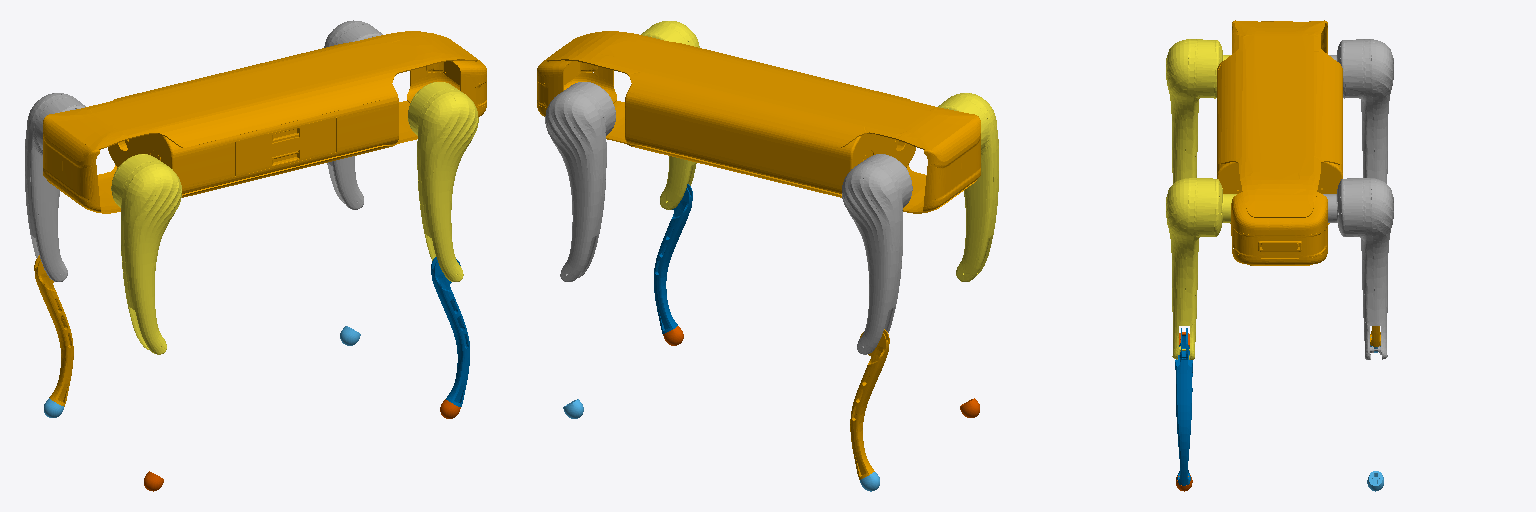
--- Render facts (derived) ---
Views: 3 orthographic renders of the robot side by side, from view 1: azimuth 30°, elevation 25°; view 2: azimuth 150°, elevation 25°; view 3: azimuth 270°, elevation 25°.
Robot: RobotDog — 18 links, 17 joints (12 revolute, 5 fixed); root link base; default pose: every joint at zero.
Links seen in each view (by area): view 1: base, RR_thigh, FR_thigh, RL_thigh, FL_thigh, FR_calf, RL_calf; view 2: base, FL_thigh, RL_thigh, RR_thigh, FR_thigh, RL_calf, FR_calf; view 3: base, FL_thigh, FR_thigh, RR_thigh, RL_thigh, FR_calf.
Boxes of the visible links, x1=… form: base: x1=43, y1=31, x2=486, y2=213; RR_thigh: x1=111, y1=154, x2=181, y2=354; FR_thigh: x1=408, y1=82, x2=478, y2=281; RL_thigh: x1=25, y1=93, x2=85, y2=281; FL_thigh: x1=324, y1=20, x2=382, y2=209; FR_calf: x1=431, y1=257, x2=469, y2=406; RL_calf: x1=34, y1=255, x2=73, y2=406; base: x1=537, y1=31, x2=980, y2=213; FL_thigh: x1=545, y1=82, x2=615, y2=281; RL_thigh: x1=842, y1=154, x2=912, y2=354; RR_thigh: x1=938, y1=93, x2=998, y2=281; FR_thigh: x1=641, y1=21, x2=699, y2=209; RL_calf: x1=850, y1=329, x2=889, y2=479; FR_calf: x1=654, y1=184, x2=692, y2=333; base: x1=1217, y1=20, x2=1342, y2=265; FL_thigh: x1=1323, y1=178, x2=1393, y2=359; FR_thigh: x1=1166, y1=178, x2=1236, y2=359; RR_thigh: x1=1166, y1=39, x2=1230, y2=183; RL_thigh: x1=1329, y1=39, x2=1393, y2=183; FR_calf: x1=1175, y1=328, x2=1192, y2=485.
Size in the robot's own frame: 1.07 by 0.5378 by 0.8267 metres.
11 mesh visuals loaded from 14 distinct referenced files (10 binary STL); not drawn: 6 (reference not matched to a file when rendering).

robot.urdf — RobotDog:
<?xml version="1.0" ?>
<!-- =================================================================================== -->
<!-- |    This document was autogenerated by xacro from [local-path]/Bridge_hub/leg_db_ws/src/legged_debugger/legged_examples/legged_base/legged_base_description/urdf/robot_sim.xacro | -->
<!-- |    EDITING THIS FILE BY HAND IS NOT RECOMMENDED                                 | -->
<!-- =================================================================================== -->
<robot name="RobotDog">
  <!-- ros_control plugin -->
  <gazebo>
    <plugin filename="liblegged_hw_sim.so" name="gazebo_ros_control">
      <robotNamespace>/</robotNamespace>
      <robotParam>legged_robot_description</robotParam>
      <robotSimType>legged_gazebo/LeggedHWSim</robotSimType>
    </plugin>
  </gazebo>
  <gazebo>
    <plugin filename="libgazebo_ros_p3d.so" name="p3d_base_controller">
      <alwaysOn>true</alwaysOn>
      <updateRate>500.0</updateRate>
      <bodyName>base</bodyName>
      <topicName>ground_truth/state</topicName>
      <gaussianNoise>0</gaussianNoise>
      <frameName>world</frameName>
      <xyzOffsets>0 0 0</xyzOffsets>
      <rpyOffsets>0 0 0</rpyOffsets>
    </plugin>
  </gazebo>
  <link name="base">
    <visual>
      <origin xyz="0 0 0" rpy="0 0 0" />
      <geometry>
        <mesh filename="package://legged_fire_description/meshes/Base.STL" />
      </geometry>
      <!-- <material name="">
        <color rgba="0.79216 0.81961 0.93333 1" />
      </material> -->
      <material name="grey"/>
    </visual>
    <!-- <collision>
      <origin xyz="0.025 0 0" rpy="0 0 0" />
      <geometry>
        <mesh filename="[local-path]/amp_ppo_ws/src/legged_gym_amp_ppo/src/AMP_for_hardware/resources/robots/LT/meshes/Base.STL" />
        <box size="1.075 0.10 0.18"/>
      </geometry>
    </collision> -->
    <collision>
      <origin xyz="0.0 0 0" rpy="0 0 0" />
      <geometry>
        <box size="0.55 0.28 0.18"/>
      </geometry>
    </collision>
    <collision>
      <origin xyz="0.42 0 0" rpy="0 0 0" />
      <geometry>
        <box size="0.25 0.12 0.18"/>
      </geometry>
    </collision>
    <collision>
      <origin xyz="-0.40 0 0" rpy="0 0 0" />
      <geometry>
        <box size="0.20 0.12 0.18"/>
      </geometry>
    </collision>
    <inertial>
      <origin xyz="0.0 0.0 0.0" rpy="0 0 0" />
      <mass value="12.40" />
      <inertia ixx="0.1632" ixy="0.0" ixz="0.0" iyy="0.342653" iyz="0.0" izz="0.39432" />
    </inertial>
  </link>
  <!-- Imu is fixed to the base link -->
  <joint name="base_imu_joint" type="fixed">
    <origin rpy="0. 0. 0." xyz="0. 0. 0."/>
    <parent link="base"/>
    <child link="base_imu"/>
  </joint>
  <gazebo reference="base_imu_joint">
    <disableFixedJointLumping>true</disableFixedJointLumping>
  </gazebo>
  <!-- Imu link -->
  <link name="base_imu">
    <inertial>
      <mass value="0.01"/>
      <origin rpy="0 0 0" xyz="0 0 0"/>
      <inertia ixx="0.000001" ixy="0" ixz="0" iyy="0.000001" iyz="0" izz="0.000001"/>
    </inertial>
    <visual>
      <origin rpy="0 0 0" xyz="0 0 0"/>
      <geometry>
        <box size="0.015 0.015 0.004"/>
      </geometry>
    </visual>
    <material name="orange">
      <color rgba="255 108 10 255"/>
    </material>
  </link>
 
  <joint name="FR_hip_joint" type="revolute">
    <origin xyz="0.2655 -0.076 0" rpy="0 0 0" />
    <parent link="base" />
    <child link="FR_hip" />
    <axis xyz="1 0 0" />
    <dynamics damping="0.0" bfriction="0.2"/>
    <limit effort="80.0" lower="-1" upper="1" velocity="30.1"/>
  </joint>
  <link name="FR_hip">
    <visual>
      <origin xyz="0 0 0" rpy="0 0 0" />
      <geometry>
        <mesh filename="package://legged_fire_description/meshes/FR_Hip.STL" />
      </geometry>
      <!-- <material name="">
        <color rgba="0.79216 0.81961 0.93333 1" />
      </material> -->
      <material name="blue"/>
    </visual>
    <!-- <collision>
      <origin rpy="1.5707963267948966 0 0" xyz="0 0 0"/>
      <geometry>
        <cylinder length="0.0587" radius="0.077"/>
      </geometry>
    </collision> -->
    <inertial>
      <origin xyz="0.12 -0.005 0.0" rpy="0 0 0" />
      <mass value="2.640" />
      <inertia ixx="0.0049" ixy="0.0" ixz="0.0" iyy="0.0065" iyz="0.0" izz="0.0049" />
    </inertial>
  </link>
  <joint name="FR_thigh_joint" type="revolute">
    <origin xyz="0.121 -0.013 0" rpy="0 0 0" />
    <parent link="FR_hip" />
    <child link="FR_thigh" />
    <axis xyz="0 1 0" />
    <dynamics damping="0.0" bfriction="0.2"/>
    <limit effort="80.0" lower="-3" upper="4.501" velocity="30.1"/>
  </joint>
  <link name="FR_thigh">
    <visual>
      <origin xyz="0 0 0" rpy="0 0 0" />
      <geometry>
        <mesh filename="package://legged_fire_description/meshes/HR_Thigh.STL" />
      </geometry>
      <!-- <material name="">
        <color rgba="0.79216 0.81961 0.93333 1" />
      </material> -->
      <material name="green"/>
    </visual>
    <collision>
      <origin xyz="0 -0.11 0" rpy="1.57 0 0" />
      <geometry>
        <cylinder length="0.12" radius="0.07"/>
      </geometry>
    </collision>
    <collision>
      <origin xyz="-0.035 -0.14 -0.16" rpy="0 0 0" />
      <geometry>
        <box size="0.055 0.06 0.20"/>
      </geometry>
    </collision>
    <collision>
      <origin xyz="-0.017 -0.14 -0.325" rpy="0 -0.40 0" />
      <geometry>
        <box size="0.030 0.06 0.13"/>
      </geometry>
    </collision>
    <!-- <collision>
      <origin rpy="1.5707963267948966 0 0" xyz="0 -0.0 0"/>
      <geometry>
        <cylinder length="0.0587" radius="0.077"/>
      </geometry>
    </collision> -->
    <inertial>
      <origin xyz="-0.0 -0.11 -0.16" rpy="0 0 0" />
      <mass value="4.170" />
      <inertia ixx="0.071" ixy="0.0" ixz="0.0" iyy="0.077" iyz="0.0" izz="0.0081" />
    </inertial>
  </link>
  <joint name="FR_calf_joint" type="revolute">
    <origin xyz="0.0 -0.11514 -0.36702" rpy="0 0 0" />
    <parent link="FR_thigh" />
    <child link="FR_calf" />
    <axis xyz="0 1 0" />
    <dynamics damping="0.0" bfriction="0.2"/>
    <limit effort="80.0" lower="-2.818" upper="0" velocity="20.06"/>
  </joint>
  <link name="FR_calf">
    <visual>
      <origin xyz="0 0 0" rpy="0 0 0" />
      <geometry>
        <mesh filename="package://legged_fire_description/meshes/FR_Knee.STL" />
      </geometry>
      <!-- <material name="">
        <color rgba="0.79216 0.81961 0.93333 1" />
      </material> -->
      <material name="brown"/>
    </visual>
    <!-- <collision>
      <origin xyz="0 0 0" rpy="0 0 0" />
      <geometry>
        <mesh filename="[local-path]/amp_ppo_ws/src/legged_gym_amp_ppo/src/AMP_for_hardware/resources/robots/LT/meshes/FR_Knee.STL" />
      </geometry>
    </collision> -->
    <!-- <collision>
      <origin xyz="-0.01 -0.02 -0.07" rpy="0 -0.40 0" />
      <geometry>
        <box size="0.02 0.04 0.18"/>
      </geometry>
    </collision> -->
    <collision>
      <origin xyz="0.03 -0.02 -0.23" rpy="0 0 0" />
      <geometry>
        <box size="0.02 0.04 0.10"/>
      </geometry>
    </collision>
    <inertial>
      <origin xyz="0.0 -0.0225 -0.16" rpy="0 0 0" />
      <mass value="0.715" />
      <inertia ixx="0.0062" ixy="0.0" ixz="0.0" iyy="0.0062" iyz="0.0" izz="0.000133" />
    </inertial>
  </link>
  <joint name="FR_foot_fixed" type="fixed" dont_collapse="true">
    <origin xyz="0.0051604 -0.021519 -0.33117" rpy="0 0 0" />
    <parent link="FR_calf" />
    <child link="FR_FOOT" />
    <axis xyz="0 0 0" />
  </joint>
  <gazebo reference="FR_foot_fixed">
    <disableFixedJointLumping>true</disableFixedJointLumping>
  </gazebo>
  <link name="FR_FOOT">
    <visual>
      <origin xyz="0 0 0" rpy="0 0.62 0" />
      <geometry>
        <mesh filename="package://legged_fire_description/meshes/FR_Ankle.STL" />
      </geometry>
      <!-- <material name="">
        <color rgba="0 0 0 1" />
      </material> -->
      <material name="black"/>
    </visual>
    <collision>
      <origin xyz="-0.010 0 -0.017" rpy="0 0 0" />
      <geometry>
        <sphere radius="0.022"/>
      </geometry>
    </collision>
    <inertial>
      <origin xyz="-0.012 0.0 -0.0175" rpy="0 0.62 0" />
      <mass value="0.05" />
      <inertia ixx="0.000008" ixy="0.0" ixz="0.0" iyy="0.000008" iyz="0.0" izz="0.000008" />
    </inertial>
  </link>
  <joint name="FL_hip_joint" type="revolute">
    <origin xyz="0.2655 0.076 0" rpy="0 0 0" />
    <parent link="base" />
    <child link="FL_hip" />
    <axis xyz="1 0 0" />
    <dynamics damping="0.0" bfriction="0.2"/>
    <limit effort="80.0" lower="-1" upper="1" velocity="30.1"/>
  </joint>
  <link name="FL_hip">
    <visual>
      <origin xyz="0 0 0" rpy="0 0 0" />
      <geometry>
        <mesh filename="package://legged_fire_description/meshes/FL_Hip.STL" />
      </geometry>
      <!-- <material name="">
        <color rgba="0.79216 0.81961 0.93333 1" />
      </material> -->
      <material name="blue"/>
    </visual>
     <!-- <collision>
      <origin xyz="0 0 0" rpy="0 0 0" />
      <geometry>
        <mesh filename="package://legged_fire_description/meshes/FL_Hip.STL" />
      </geometry>
    </collision> -->
    <inertial>
      <origin xyz="0.12 0.005 -0.0" rpy="0 0 0" />
      <mass value="2.640" />
      <inertia ixx="0.0049" ixy="0.0" ixz="0.0" iyy="0.0065" iyz="0.0" izz="0.0049" />
    </inertial>
  </link>
  <joint name="FL_thigh_joint" type="revolute">
    <origin xyz="0.121 0.013 0" rpy="0 0 0" />
    <parent link="FL_hip" />
    <child link="FL_thigh" />
    <axis xyz="0 1 0" />
    <dynamics damping="0.0" bfriction="0.2"/>
    <limit effort="80.0" lower="-3" upper="4.501" velocity="30.1"/>
  </joint>
  <link name="FL_thigh">
    <visual>
      <origin xyz="0 0 0" rpy="0 0 0" />
      <geometry>
        <mesh filename="package://legged_fire_description/meshes/FL_Thigh.STL" />
      </geometry>
      <!-- <material name="">
        <color rgba="0.79216 0.81961 0.93333 1" />
      </material> -->
      <material name="green"/>
    </visual>
    <collision>
      <origin xyz="0 0.11 0" rpy="1.57 0 0" />
      <geometry>
        <cylinder length="0.12" radius="0.07"/>
      </geometry>
    </collision>
    <collision>
      <origin xyz="-0.035 0.14 -0.16" rpy="0 0 0" />
      <geometry>
        <box size="0.055 0.06 0.20"/>
      </geometry>
    </collision>
    <collision>
      <origin xyz="-0.017 0.14 -0.325" rpy="0 -0.40 0" />
      <geometry>
        <box size="0.030 0.06 0.13"/>
      </geometry>
    </collision>
    <inertial>
      <origin xyz="-0.0 0.11 -0.16" rpy="0 0 0" />
      <mass value="4.170" />
      <inertia ixx="0.071" ixy="0.0" ixz="0.0" iyy="0.077" iyz="0.0" izz="0.0081" />
    </inertial>
  </link>
  <joint name="FL_calf_joint" type="revolute">
    <origin xyz="0 0.11514 -0.36702" rpy="0 0 0" />
    <parent link="FL_thigh" />
    <child link="FL_calf" />
    <axis xyz="0 1 0" />
    <dynamics damping="0.0" bfriction="0.2"/>
    <limit effort="80.0" lower="-2.818" upper="0" velocity="20.06"/>
  </joint>
  <link name="FL_calf">
    <visual>
      <origin xyz="0 0 0" rpy="0 0 0" />
      <geometry>
        <mesh filename="package://legged_fire_description/meshes/FL_Knee.STL" />
      </geometry>
      <!-- <material name="">
        <color rgba="0.79216 0.81961 0.93333 1" />
      </material> -->
      <material name="brown"/>
    </visual>
    <collision>
      <origin xyz="0.03 0.02 -0.23" rpy="0 0 0" />
      <geometry>
        <box size="0.02 0.04 0.10"/>
      </geometry>
    </collision>
    <inertial>
      <origin xyz="0.0 0.0225 -0.16" rpy="0 0 0" />
      <mass value="0.715" />
      <inertia ixx="0.0062" ixy="0.0" ixz="0.0" iyy="0.0062" iyz="0.0" izz="0.000133" />
    </inertial>
  </link>
  <joint name="FL_foot_fixed" type="fixed" dont_collapse="true">
    <origin xyz="0.0051604 0.021519 -0.33117" rpy="0 0 0" />
    <parent link="FL_calf" />
    <child link="FL_FOOT" />
    <axis xyz="0 0 0" />
  </joint>
  <gazebo reference="FL_foot_fixed">
    <disableFixedJointLumping>true</disableFixedJointLumping>
  </gazebo>
  <link name="FL_FOOT">
    <visual>
      <origin xyz="0 0 0" rpy="0 0.62 0" />
      <geometry>
        <mesh filename="package://legged_fire_description/meshes/FL_Ankle.STL" />
      </geometry>
      <!-- <material name="">
        <color rgba="0 0 0 1" />
      </material> -->
      <material name="black"/>
    </visual>
    <!-- <collision>
      <origin xyz="0 0 0" rpy="0 0 0" />
      <geometry>
        <mesh filename="package://legged_fire_description/meshes/FL_Ankle.STL" />
      </geometry>
    </collision> -->
    <collision>
      <origin xyz="-0.010 0 -0.017" rpy="0 0 0" />
      <geometry>
        <sphere radius="0.022"/>
      </geometry>
    </collision>
    <inertial>
      <origin xyz="-0.012 0.0 -0.0175" rpy="0 0.62 0" />
      <mass value="0.05" />
      <inertia ixx="0.000008" ixy="0.0" ixz="0.0" iyy="0.000008" iyz="0.0" izz="0.000008" />
    </inertial>
  </link>
  <joint name="RR_hip_joint" type="revolute">
    <origin xyz="-0.2655 -0.076 0" rpy="0 0 0" />
    <parent link="base" />
    <child link="RR_hip" />
    <axis xyz="1 0 0" />
    <dynamics damping="0.0" bfriction="0.2"/>
    <limit effort="80.0" lower="-1" upper="1" velocity="30.1"/>
  </joint>
  <link name="RR_hip">
    <visual>
      <origin xyz="0 0 0" rpy="0 0 0" />
      <geometry>
        <mesh filename="package://legged_fire_description/meshes/FR_Hip.STL" />
      </geometry>
      <!-- <material name="">
        <color rgba="0.79216 0.81961 0.93333 1" />
      </material> -->
      <material name="blue"/>
    </visual>
    <!-- <collision>
      <origin xyz="0 0 0" rpy="0 0 0" />
      <geometry>
        <mesh filename="package://legged_fire_description/meshes/FR_Hip.STL" />
      </geometry>
    </collision> -->
    <inertial>
      <origin xyz="-0.12 -0.005 -0.0" rpy="0 0 0" />
      <mass value="2.640" />
      <inertia ixx="0.0049" ixy="0.0" ixz="0.0" iyy="0.0065" iyz="0.0" izz="0.0049" />
    </inertial>
  </link>
  <joint name="RR_thigh_joint" type="revolute">
    <origin xyz="-0.121 -0.013 0" rpy="0 0 0" />
    <parent link="RR_hip" />
    <child link="RR_thigh" />
    <axis xyz="0 1 0" />
    <dynamics damping="0.0" bfriction="0.2"/>
    <limit effort="80.0" lower="-3" upper="4.501" velocity="30.1"/>
  </joint>
  <link name="RR_thigh">
    <visual>
      <origin xyz="0 0 0" rpy="0 0 0" />
      <geometry>
        <mesh filename="package://legged_fire_description/meshes/HR_Thigh.STL" />
      </geometry>
      <!-- <material name="">
        <color rgba="0.79216 0.81961 0.93333 1" />
      </material> -->
      <material name="green"/>
    </visual>
    <collision>
      <origin xyz="0 -0.11 0" rpy="1.57 0 0" />
      <geometry>
        <cylinder length="0.12" radius="0.07"/>
      </geometry>
    </collision>
    <collision>
      <origin xyz="-0.035 -0.14 -0.16" rpy="0 0 0" />
      <geometry>
        <box size="0.055 0.06 0.20"/>
      </geometry>
    </collision>
    <collision>
      <origin xyz="-0.017 -0.14 -0.325" rpy="0 -0.40 0" />
      <geometry>
        <box size="0.030 0.06 0.13"/>
      </geometry>
    </collision>
    <inertial>
      <origin xyz="-0.0 -0.11 -0.16" rpy="0 0 0" />
      <mass value="4.170" />
      <inertia ixx="0.071" ixy="0.0" ixz="0.0" iyy="0.077" iyz="0.0" izz="0.0081" />
    </inertial>
  </link>
  <joint name="RR_calf_joint" type="revolute">
    <origin xyz="0 -0.11514 -0.36702" rpy="0 0 0" />
    <parent link="RR_thigh" />
    <child link="RR_calf" />
    <axis xyz="0 1 0" />
    <dynamics damping="0.0" bfriction="0.2"/>
    <limit effort="80.0" lower="-2.818" upper="0" velocity="20.06"/>
  </joint>
  <link name="RR_calf">
    <visual>
      <origin xyz="0 0 0" rpy="0 0 0" />
      <geometry>
        <mesh filename="package://legged_fire_description/meshes/HR_Knee.STL" />
      </geometry>
      <!-- <material name="">
        <color rgba="0.79216 0.81961 0.93333 1" />
      </material> -->
      <material name="brown"/>
    </visual>
    <!-- <collision>
      <origin xyz="0 0 0" rpy="0 0 0" />
      <geometry>
        <mesh filename="package://legged_fire_description/meshes/HR_Knee.STL" />
      </geometry>
    </collision> -->
    <!-- <collision>
      <origin xyz="-0.01 -0.02 -0.07" rpy="0 -0.40 0" />
      <geometry>
        <box size="0.02 0.04 0.18"/>
      </geometry>
    </collision> -->
    <collision>
      <origin xyz="0.03 -0.02 -0.23" rpy="0 0 0" />
      <geometry>
        <box size="0.02 0.04 0.10"/>
      </geometry>
    </collision>
    <inertial>
      <origin xyz="0.0 -0.0225 -0.16" rpy="0 0 0" />
      <mass value="0.715" />
      <inertia ixx="0.0062" ixy="0.0" ixz="0.0" iyy="0.0062" iyz="0.0" izz="0.000133" />
    </inertial>
  </link>
  <joint name="RR_foot_fixed" type="fixed" dont_collapse="true">
    <origin xyz="0.0051604 -0.021519 -0.33117" rpy="0 0 0" />
    <parent link="RR_calf" />
    <child link="RR_FOOT" />
    <axis xyz="0 0 0" />
  </joint>
  <gazebo reference="RR_foot_fixed">
    <disableFixedJointLumping>true</disableFixedJointLumping>
  </gazebo>
  <link name="RR_FOOT">
    <visual>
      <origin xyz="0 0 0" rpy="0 0.62 0" />
      <geometry>
        <mesh filename="package://legged_fire_description/meshes/HR_Ankle.STL" />
      </geometry>
      <!-- <material name="">
        <color rgba="0 0 0 1" />
      </material> -->
      <material name="black"/>
    </visual>
    <!-- <collision>
      <origin xyz="0 0 0" rpy="0 0 0" />
      <geometry>
        <mesh filename="package://legged_fire_description/meshes/HR_Ankle.STL" />
      </geometry>
    </collision> -->
    <collision>
      <origin xyz="-0.010 0 -0.017" rpy="0 0 0" />
      <geometry>
        <sphere radius="0.022"/>
      </geometry>
    </collision>
    <inertial>
      <origin xyz="-0.012 0.0 -0.0175" rpy="0 0.62 0" />
      <mass value="0.05" />
      <inertia ixx="0.000008" ixy="0.0" ixz="0.0" iyy="0.000008" iyz="0.0" izz="0.000008" />
    </inertial>
  </link>
  <joint name="RL_hip_joint" type="revolute">
    <origin xyz="-0.2655 0.076 0" rpy="0 0 0" />
    <parent link="base" />
    <child link="RL_hip" />
    <axis xyz="1 0 0" />
    <dynamics damping="0.0" bfriction="0.2"/>
    <limit effort="80.0" lower="-1" upper="1" velocity="30.1"/>
  </joint>
  <link name="RL_hip">
    <visual>
      <origin xyz="0 0 0" rpy="0 0 0" />
      <geometry>
        <mesh filename="package://legged_fire_description/meshes/FL_Hip.STL" />
      </geometry>
      <!-- <material name="">
        <color rgba="0.79216 0.81961 0.93333 1" />
      </material> -->
      <material name="blue"/>
    </visual>
    <!-- <collision>
      <origin xyz="0 0 0" rpy="0 0 0" />
      <geometry>
        <mesh filename="package://legged_fire_description/meshes/FL_Hip.STL" />
      </geometry>
    </collision> -->
    <inertial>
      <origin xyz="-0.12 0.005 -0.0" rpy="0 0 0" />
      <mass value="2.640" />
      <inertia ixx="0.0049" ixy="0.0" ixz="0.0" iyy="0.0065" iyz="0.0" izz="0.0049" />
    </inertial>
  </link>
  <joint name="RL_thigh_joint" type="revolute">
    <origin xyz="-0.121 0.013 0" rpy="0 0 0" />
    <parent link="RL_hip" />
    <child link="RL_thigh" />
    <axis xyz="0 1 0" />
    <dynamics damping="0.0" bfriction="0.2"/>
    <limit effort="80.0" lower="-3" upper="4.501" velocity="30.1"/>
  </joint>
  <link name="RL_thigh">
    <visual>
      <origin xyz="0 0 0" rpy="0 0 0" />
      <geometry>
        <mesh filename="package://legged_fire_description/meshes/HL_Thigh.STL" />
      </geometry>
      <!-- <material name="">
        <color rgba="0.79216 0.81961 0.93333 1" />
      </material> -->
      <material name="green"/>
    </visual>
    <collision>
      <origin xyz="0 0.11 0" rpy="1.57 0 0" />
      <geometry>
        <cylinder length="0.12" radius="0.07"/>
      </geometry>
    </collision>
    <collision>
      <origin xyz="-0.035 0.14 -0.16" rpy="0 0 0" />
      <geometry>
        <box size="0.055 0.06 0.20"/>
      </geometry>
    </collision>
    <collision>
      <origin xyz="-0.017 0.14 -0.325" rpy="0 -0.40 0" />
      <geometry>
        <box size="0.030 0.06 0.13"/>
      </geometry>
    </collision>
    <inertial>
      <origin xyz="-0.0 0.11 -0.16" rpy="0 0 0" />
      <mass value="4.170" />
      <inertia ixx="0.071" ixy="0.0" ixz="0.0" iyy="0.077" iyz="0.0" izz="0.0081" />
    </inertial>
  </link>
  <joint name="RL_calf_joint" type="revolute">
    <origin xyz="0 0.11514 -0.36702" rpy="0 0 0" />
    <parent link="RL_thigh" />
    <child link="RL_calf" />
    <axis xyz="0 -1 0" />
    <dynamics damping="0.0" bfriction="0.2"/>
    <limit effort="80.0" lower="-2.818" upper="0" velocity="20.06"/>
  </joint>
  <link name="RL_calf">
    <visual>
      <origin xyz="0 0 0" rpy="0 0 0" />
      <geometry>
        <mesh filename="package://legged_fire_description/meshes/HL_Knee.STL" />
      </geometry>
      <!-- <material name="">
        <color rgba="0.79216 0.81961 0.93333 1" />
      </material> -->
      <material name="brown"/>
    </visual>
    <!-- <collision>
      <origin xyz="0 0 0" rpy="0 0 0" />
      <geometry>
        <mesh filename="package://legged_fire_description/meshes/HL_Knee.STL" />
      </geometry>
    </collision> -->
    <collision>
      <origin xyz="-0.01 0.02 -0.07" rpy="0 -0.40 0" />
      <geometry>
        <box size="0.02 0.04 0.18"/>
      </geometry>
    </collision>
    <collision>
      <origin xyz="0.03 0.02 -0.23" rpy="0 0 0" />
      <geometry>
        <box size="0.02 0.04 0.10"/>
      </geometry>
    </collision>
    <inertial>
      <origin xyz="0.0 0.0225 -0.16" rpy="0 0 0" />
      <mass value="0.715" />
      <inertia ixx="0.0062" ixy="0.0" ixz="0.0" iyy="0.0062" iyz="0.0" izz="0.000133" />
    </inertial>
  </link>
  <joint name="RL_foot_fixed" type="fixed" dont_collapse="true">
    <origin xyz="0.0051604 0.021519 -0.33117" rpy="0 0 0" />
    <parent link="RL_calf" />
    <child link="RL_FOOT" />
    <axis xyz="0 0 0" />
  </joint>
  <gazebo reference="RL_foot_fixed">
    <disableFixedJointLumping>true</disableFixedJointLumping>
  </gazebo>
  <link name="RL_FOOT">
    <visual>
      <origin xyz="0 0 0" rpy="0 0.62 0" />
      <geometry>
        <mesh filename="package://legged_fire_description/meshes/HL_Ankle.STL" />
      </geometry>
      <!-- <material name="">
        <color rgba="0 0 0 1" />
      </material> -->
      <material name="black"/>
    </visual>
    <!-- <collision>
      <origin xyz="0 0 0" rpy="0 0 0" />
      <geometry>
        <mesh filename="package://legged_fire_description/meshes/HL_Ankle.STL" />
      </geometry>
    </collision> -->
    <collision>
      <origin xyz="-0.010 0 -0.017" rpy="0 0 0" />
      <geometry>
        <sphere radius="0.022"/>
      </geometry>
    </collision>
    <inertial>
      <origin xyz="-0.012 0.0 -0.0175" rpy="0 0.62 0" />
      <mass value="0.05" />
      <inertia ixx="0.000008" ixy="0.0" ixz="0.0" iyy="0.000008" iyz="0.0" izz="0.000008" />
    </inertial>
  </link>
  <transmission name="LF_HAA_tran">
    <type>transmission_interface/SimpleTransmission</type>
    <joint name="FL_hip_joint">
      <hardwareInterface>hardware_interface/EffortJointInterface</hardwareInterface>
    </joint>
    <actuator name="LF_HAA_motor">
      <hardwareInterface>hardware_interface/EffortJointInterface</hardwareInterface>
      <mechanicalReduction>1</mechanicalReduction>
    </actuator>
  </transmission>
  <transmission name="LF_HFE_tran">
    <type>transmission_interface/SimpleTransmission</type>
    <joint name="FL_thigh_joint">
      <hardwareInterface>hardware_interface/EffortJointInterface</hardwareInterface>
    </joint>
    <actuator name="LF_HFE_motor">
      <hardwareInterface>hardware_interface/EffortJointInterface</hardwareInterface>
      <mechanicalReduction>1</mechanicalReduction>
    </actuator>
  </transmission>
  <transmission name="LF_KFE_tran">
    <type>transmission_interface/SimpleTransmission</type>
    <joint name="FL_calf_joint">
      <hardwareInterface>hardware_interface/EffortJointInterface</hardwareInterface>
    </joint>
    <actuator name="LF_KFE_motor">
      <hardwareInterface>hardware_interface/EffortJointInterface</hardwareInterface>
      <mechanicalReduction>1</mechanicalReduction>
    </actuator>
  </transmission>
  <transmission name="LH_HAA_tran">
    <type>transmission_interface/SimpleTransmission</type>
    <joint name="RL_hip_joint">
      <hardwareInterface>hardware_interface/EffortJointInterface</hardwareInterface>
    </joint>
    <actuator name="LH_HAA_motor">
      <hardwareInterface>hardware_interface/EffortJointInterface</hardwareInterface>
      <mechanicalReduction>1</mechanicalReduction>
    </actuator>
  </transmission>
  <transmission name="LH_HFE_tran">
    <type>transmission_interface/SimpleTransmission</type>
    <joint name="RL_thigh_joint">
      <hardwareInterface>hardware_interface/EffortJointInterface</hardwareInterface>
    </joint>
    <actuator name="LH_HFE_motor">
      <hardwareInterface>hardware_interface/EffortJointInterface</hardwareInterface>
      <mechanicalReduction>1</mechanicalReduction>
    </actuator>
  </transmission>
  <transmission name="LH_KFE_tran">
    <type>transmission_interface/SimpleTransmission</type>
    <joint name="RL_calf_joint">
      <hardwareInterface>hardware_interface/EffortJointInterface</hardwareInterface>
    </joint>
    <actuator name="LH_KFE_motor">
      <hardwareInterface>hardware_interface/EffortJointInterface</hardwareInterface>
      <mechanicalReduction>1</mechanicalReduction>
    </actuator>
  </transmission>
  <transmission name="RF_HAA_tran">
    <type>transmission_interface/SimpleTransmission</type>
    <joint name="FR_hip_joint">
      <hardwareInterface>hardware_interface/EffortJointInterface</hardwareInterface>
    </joint>
    <actuator name="RF_HAA_motor">
      <hardwareInterface>hardware_interface/EffortJointInterface</hardwareInterface>
      <mechanicalReduction>1</mechanicalReduction>
    </actuator>
  </transmission>
  <transmission name="RF_HFE_tran">
    <type>transmission_interface/SimpleTransmission</type>
    <joint name="FR_thigh_joint">
      <hardwareInterface>hardware_interface/EffortJointInterface</hardwareInterface>
    </joint>
    <actuator name="RF_HFE_motor">
      <hardwareInterface>hardware_interface/EffortJointInterface</hardwareInterface>
      <mechanicalReduction>1</mechanicalReduction>
    </actuator>
  </transmission>
  <transmission name="RF_KFE_tran">
    <type>transmission_interface/SimpleTransmission</type>
    <joint name="FR_calf_joint">
      <hardwareInterface>hardware_interface/EffortJointInterface</hardwareInterface>
    </joint>
    <actuator name="RF_KFE_motor">
      <hardwareInterface>hardware_interface/EffortJointInterface</hardwareInterface>
      <mechanicalReduction>1</mechanicalReduction>
    </actuator>
  </transmission>
  <transmission name="RH_HAA_tran">
    <type>transmission_interface/SimpleTransmission</type>
    <joint name="RR_hip_joint">
      <hardwareInterface>hardware_interface/EffortJointInterface</hardwareInterface>
    </joint>
    <actuator name="RH_HAA_motor">
      <hardwareInterface>hardware_interface/EffortJointInterface</hardwareInterface>
      <mechanicalReduction>1</mechanicalReduction>
    </actuator>
  </transmission>
  <transmission name="RH_HFE_tran">
    <type>transmission_interface/SimpleTransmission</type>
    <joint name="RR_thigh_joint">
      <hardwareInterface>hardware_interface/EffortJointInterface</hardwareInterface>
    </joint>
    <actuator name="RH_HFE_motor">
      <hardwareInterface>hardware_interface/EffortJointInterface</hardwareInterface>
      <mechanicalReduction>1</mechanicalReduction>
    </actuator>
  </transmission>
  <transmission name="RH_KFE_tran">
    <type>transmission_interface/SimpleTransmission</type>
    <joint name="RR_calf_joint">
      <hardwareInterface>hardware_interface/EffortJointInterface</hardwareInterface>
    </joint>
    <actuator name="RH_KFE_motor">
      <hardwareInterface>hardware_interface/EffortJointInterface</hardwareInterface>
      <mechanicalReduction>1</mechanicalReduction>
    </actuator>
  </transmission>
</robot>
